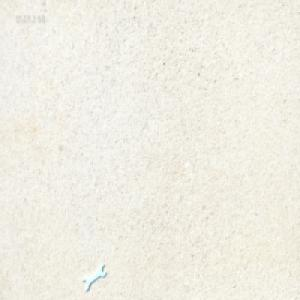Wrench: (86, 263, 110, 291)
